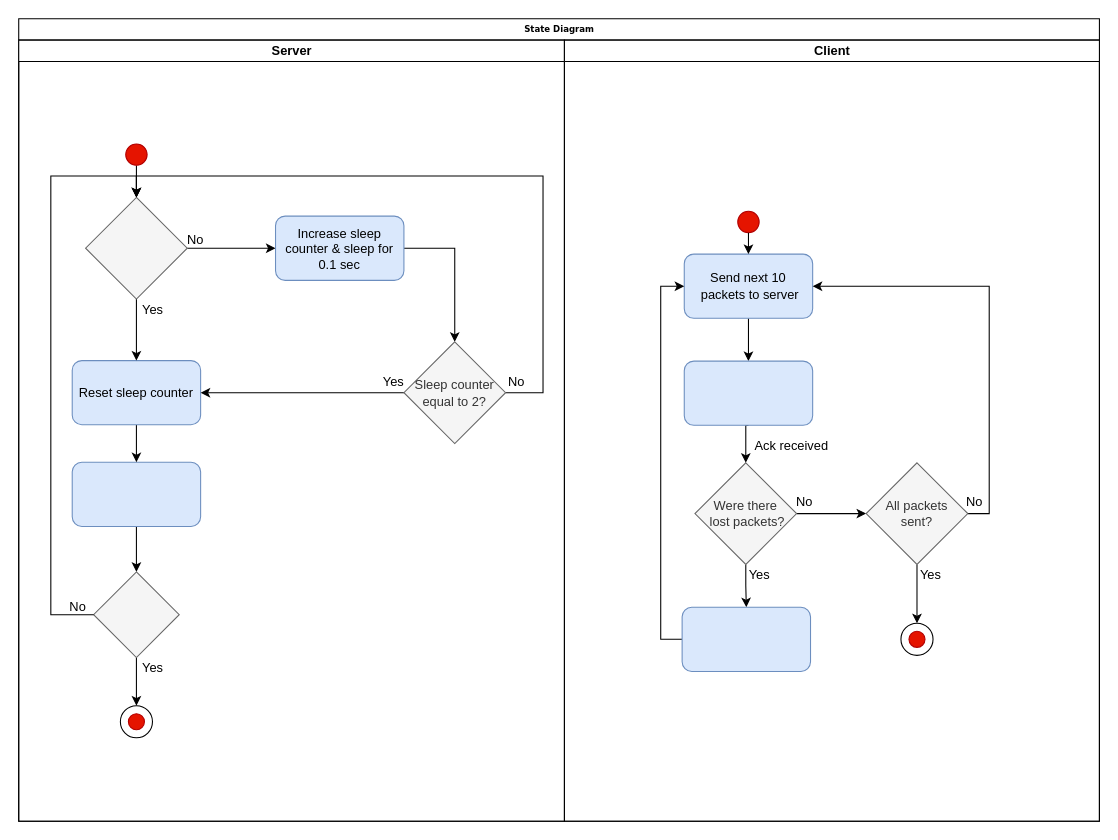
Some shapes in this 1118 by 840 pixel diagram are drawn without their labels. The shapes that lost their labels are listed below. From the top down, each one's centre as x and y in pixels, then its label:
At point 136,247: "Check if client sent any packets".
At point 748,392: "Wait for acknowledgement".
At point 136,493: "Send ack about which packets were received".
At point 136,614: "All packets received?".
At point 746,638: "Resend lost packets".
